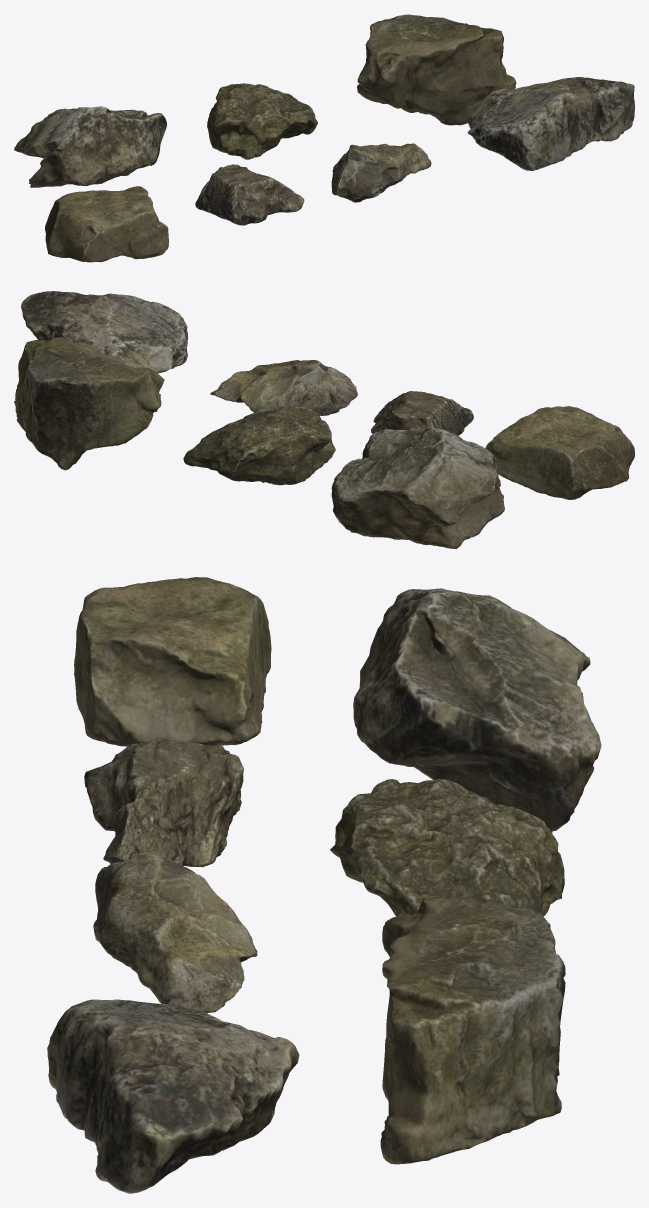
The model's file is field-rock-moss-set-02.glb.
3 views of the same model, one above another, from view 1: azimuth 30°, elevation 25°; view 2: azimuth 150°, elevation 25°; view 3: azimuth 270°, elevation 25° (orthographic). The views are drawn at different scales.
Visible parts, largest first — view 1: rock_moss_set_02_rock13, rock_moss_set_02_rock10, rock_moss_set_02_rock11, rock_moss_set_02_rock07, rock_moss_set_02_rock12, rock_moss_set_02_rock08, rock_moss_set_02_rock09; view 2: rock_moss_set_02_rock11, rock_moss_set_02_rock13, rock_moss_set_02_rock07, rock_moss_set_02_rock10, rock_moss_set_02_rock12, rock_moss_set_02_rock09, rock_moss_set_02_rock08; view 3: rock_moss_set_02_rock13, rock_moss_set_02_rock11, rock_moss_set_02_rock10, rock_moss_set_02_rock07, rock_moss_set_02_rock12, rock_moss_set_02_rock09, rock_moss_set_02_rock08.
Boxes of the visible parts, x1=… form: rock_moss_set_02_rock13: x1=357, y1=14, x2=516, y2=125; rock_moss_set_02_rock10: x1=467, y1=77, x2=634, y2=170; rock_moss_set_02_rock11: x1=14, y1=106, x2=166, y2=187; rock_moss_set_02_rock07: x1=45, y1=186, x2=168, y2=262; rock_moss_set_02_rock12: x1=207, y1=83, x2=317, y2=159; rock_moss_set_02_rock08: x1=195, y1=164, x2=304, y2=225; rock_moss_set_02_rock09: x1=331, y1=143, x2=431, y2=202; rock_moss_set_02_rock11: x1=331, y1=427, x2=504, y2=548; rock_moss_set_02_rock13: x1=14, y1=337, x2=164, y2=470; rock_moss_set_02_rock07: x1=485, y1=406, x2=634, y2=499; rock_moss_set_02_rock10: x1=21, y1=291, x2=187, y2=373; rock_moss_set_02_rock12: x1=183, y1=406, x2=335, y2=485; rock_moss_set_02_rock09: x1=210, y1=360, x2=357, y2=415; rock_moss_set_02_rock08: x1=371, y1=391, x2=473, y2=435; rock_moss_set_02_rock13: x1=380, y1=895, x2=565, y2=1164; rock_moss_set_02_rock11: x1=353, y1=588, x2=601, y2=833; rock_moss_set_02_rock10: x1=47, y1=999, x2=299, y2=1193; rock_moss_set_02_rock07: x1=74, y1=577, x2=271, y2=746; rock_moss_set_02_rock12: x1=330, y1=779, x2=564, y2=927; rock_moss_set_02_rock09: x1=93, y1=851, x2=257, y2=1013; rock_moss_set_02_rock08: x1=84, y1=741, x2=243, y2=867.
Size of the model in its own units: 8.28 by 1.37 by 3.41.
1 material, 1 textured.
